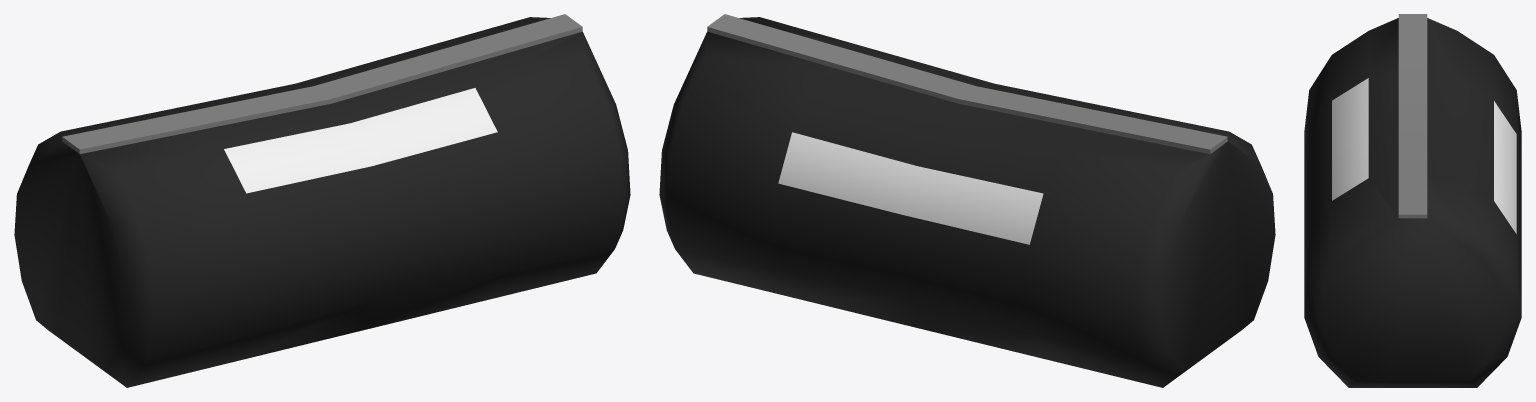
File: Kicked.fbx
3 renders of one model, left to right at view 1: azimuth 30°, elevation 25°; view 2: azimuth 150°, elevation 25°; view 3: azimuth 270°, elevation 25°, orthographic. The views are drawn at different scales.
Parts seen in each view (by area): view 1: Kicked; view 2: Kicked; view 3: Kicked.
Boxes of the visible parts, x1,y1,x2,y2 form: Kicked: (14,14,630,387); Kicked: (659,14,1275,387); Kicked: (1304,14,1521,387).
Size of the model in its own units: 51.99 by 21.75 by 23.77.
